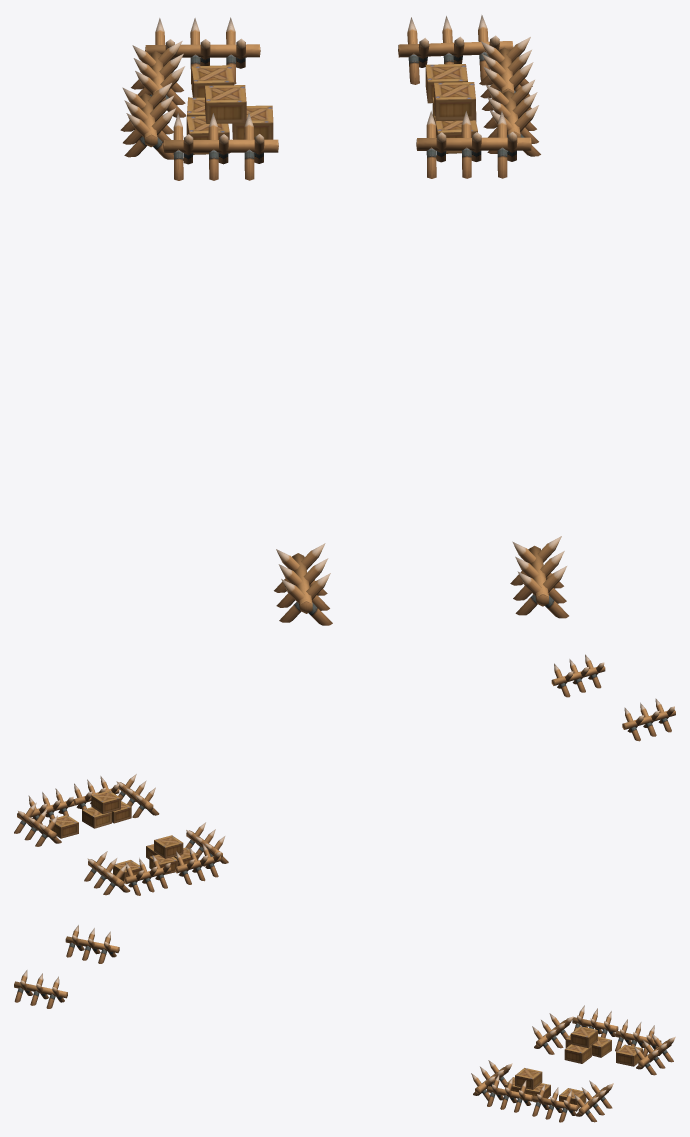
Rendered from area_09_5.fbx.
The picture shows the model from 3 angles, top to bottom: view 1: azimuth 30°, elevation 25°; view 2: azimuth 150°, elevation 25°; view 3: azimuth 270°, elevation 25°; orthographic projection. The views are drawn at different scales.
Parts seen in each view (by area): view 1: area_09_5; view 2: area_09_5; view 3: area_09_5.
Part boxes in pixels (<box>): area_09_5: <box>120,15,568,625</box>; area_09_5: <box>14,654,675,895</box>; area_09_5: <box>14,925,675,1122</box>.
Bounding box in the file's own units: 39.21 × 2.87 × 61.03.
